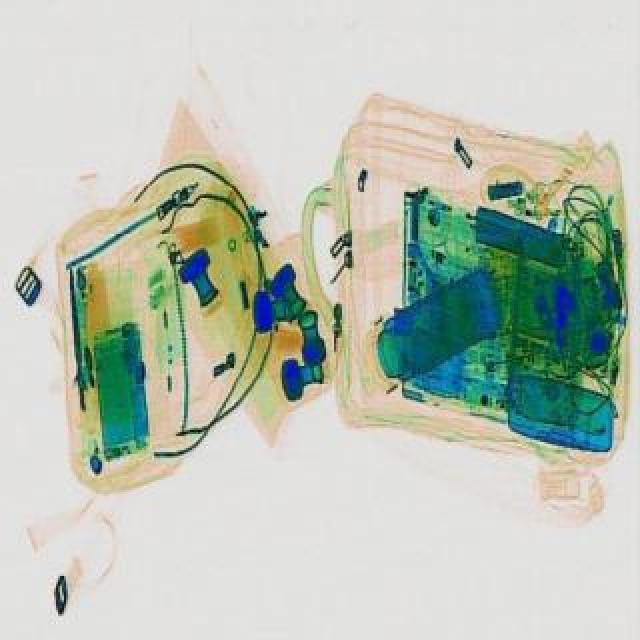knife: (62, 264, 90, 408)
